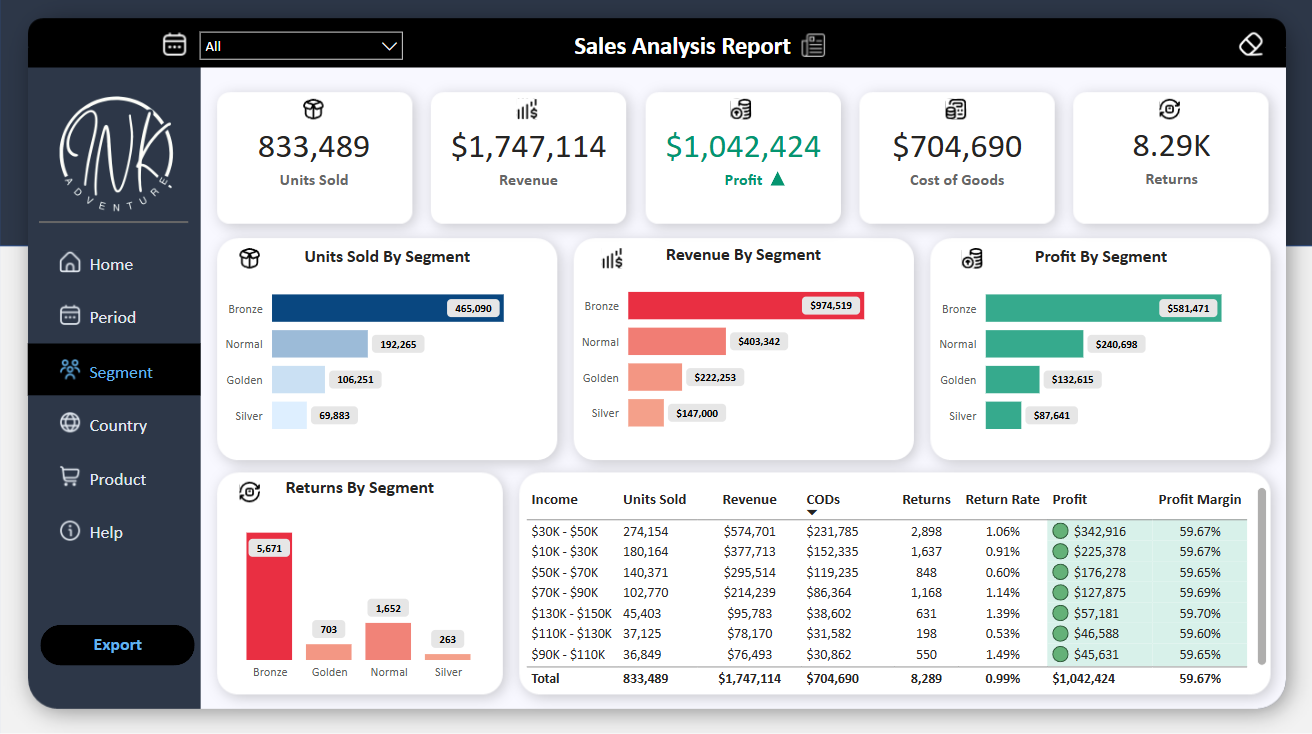

The page's visual inventory and layout, read from the dashboard file:
{"tool":"powerbi","page":{"name":"Main page","canvas":[1280,720],"ordinal":0},"visuals":[{"type":"group","id":"g1","title":"Static grouping","box":[0,24.2,1236.4,474.7],"z":0},{"type":"card","title":"Unit Sold","fields":{"Values":["Measure.Quantity Sold"]},"box":[212.1,115.4,190.4,76.5],"z":0,"group":"g1"},{"type":"shape","box":[1142.4,242.9,88.2,24.6],"z":0,"group":"g4"},{"type":"actionButton","title":"Help","box":[28,495,168,50],"z":0,"group":"g2"},{"type":"card","title":"Revenue","fields":{"Values":["Measure.Total_revenue"]},"box":[420.2,115.9,191.8,76],"z":1000,"group":"g1"},{"type":"card","fields":{"Values":["Measure.YOY-profit_format"]},"box":[1139.5,235,86.8,41.9],"z":1000,"group":"g4"},{"type":"actionButton","title":"product","box":[28,442.8,167.8,49.8],"z":1000,"group":"g2"},{"type":"actionButton","title":"Export","box":[39.8,611.6,150.8,39.8],"z":1000},{"type":"card","title":"Profit","fields":{"Values":["Measure.Total-profit"]},"box":[629.7,115.1,189.2,76.8],"z":2000,"group":"g1"},{"type":"group","id":"g2","title":"Inactive buttons","box":[28,234,168,311],"z":2000},{"type":"actionButton","title":"Country","box":[28,390.7,167.8,49.8],"z":2000,"group":"g2"},{"type":"tableEx","title":"Period Table","fields":{"Values":["Calendar.month_year","Measure.Quantity Sold","Measure.Total_revenue","Measure.Total_cost","Measure.Total_returns","Measure.return_rate","Measure.Total-profit","Measure.Profit_margin"]},"box":[507,473,731,205.3],"z":2000,"group":"g4"},{"type":"card","title":"Total Returns","fields":{"Values":["Measure.Total_returns"]},"box":[1046,114,190.4,77.9],"z":3000,"group":"g1"},{"type":"group","id":"g3","title":"Active buttons","box":[28,234,169.1,311.6],"z":3000},{"type":"areaChart","title":"Profit By Period","fields":{"Category":["Calendar.Year","Calendar.Start of Month","Calendar.Start of Week","Calendar.Quarter"],"Y":["Measure.Total-profit"]},"box":[906.1,242.4,330.4,199.1],"z":3000,"group":"g4"},{"type":"actionButton","title":"Segment","box":[28,338.5,167.8,49.8],"z":3000,"group":"g2"},{"type":"slicer","fields":{"Values":["Calendar.Year"]},"box":[185.1,24.6,218.3,43.4],"z":4000},{"type":"card","title":"Total Cost","fields":{"Values":["Measure.Total_Cost"]},"box":[836.5,115.9,191.8,76],"z":4000,"group":"g1"},{"type":"actionButton","title":"Period","box":[28,286.4,167.8,49.8],"z":4000,"group":"g2"},{"type":"actionButton","title":"Active Period","box":[28,286.4,169.1,51.6],"z":4000,"group":"g3"},{"type":"areaChart","title":"Returns By Period","fields":{"Category":["Calendar.Year","Calendar.Start of Month","Calendar.Start of Week"],"Y":["Measure.Total_returns"]},"box":[212.6,467.1,276.2,208.2],"z":4000,"group":"g4"},{"type":"image","box":[0,24.2,230.4,260.3],"z":5000,"group":"g1"},{"type":"actionButton","box":[154.4,30.3,33.2,31.7],"z":5000},{"type":"actionButton","title":"Home","box":[28,234,168,50],"z":5000,"group":"g2"},{"type":"areaChart","title":"Revenue By Period","fields":{"Category":["Calendar.Year","Calendar.Start of Month","Calendar.Start of Week","Calendar.Quarter"],"Y":["Measure.Total_revenue"]},"box":[559.6,240,329.7,199.6],"z":5000,"group":"g4"},{"type":"shape","box":[38.6,203.9,146,31.4],"z":6000,"group":"g1"},{"type":"areaChart","title":"Units Sold By Period","fields":{"Category":["Calendar.Year","Calendar.Start of Month","Calendar.Start of Week","Calendar.Quarter"],"Y":["Measure.Quantity Sold"]},"box":[212.6,242.9,329.7,199.6],"z":6000,"group":"g4"},{"type":"actionButton","box":[291.4,93.8,32,32],"z":7000,"group":"g1"},{"type":"actionButton","box":[499.9,93.8,32,32],"z":8000,"group":"g1"},{"type":"actionButton","box":[708.4,93.8,32,32],"z":9000,"group":"g1"},{"type":"group","id":"g4","title":"Period View","box":[212.6,235,1025.4,443.3],"z":9000},{"type":"textbox","title":"report name","box":[554,27.4,246.7,40.4],"z":10000,"group":"g1"},{"type":"actionButton","box":[776.2,24.5,49.1,47.6],"z":11000},{"type":"actionButton","box":[916.9,93.8,32,32],"z":11000,"group":"g1"},{"type":"actionButton","box":[1201.6,22.9,48.3,47.1],"z":12000},{"type":"actionButton","box":[1125.4,93.8,32,32],"z":12000,"group":"g1"},{"type":"shape","box":[750.5,170.7,14.5,14.5],"z":13000,"group":"g1"},{"type":"actionButton","box":[229.9,240.1,33.3,31.8],"z":14000,"group":"g1"},{"type":"actionButton","box":[582,240.1,31.8,31.8],"z":15000,"group":"g1"},{"type":"actionButton","box":[932.7,240.1,31.8,31.8],"z":16000,"group":"g1"},{"type":"actionButton","box":[229.9,467.1,31.8,31.8],"z":17000,"group":"g1"}]}

Visuals, with their boxes in screenshot pixels (x1, y1, x2, y2), scaled from the page's 1280x720 canvas onto the 1312x734 screenshot:
"Static grouping" group: [0,25,1267,509]
"Unit Sold" card: [217,118,413,196]
shape: [1171,248,1261,273]
"Help" actionButton: [29,505,201,556]
"Revenue" card: [431,118,627,196]
card - Measure.YOY-profit_format: [1168,240,1257,282]
"product" actionButton: [29,451,201,502]
"Export" actionButton: [41,623,195,664]
"Profit" card: [645,117,839,196]
"Inactive buttons" group: [29,239,201,556]
"Country" actionButton: [29,398,201,449]
"Period Table" tableEx: [520,482,1269,691]
"Total Returns" card: [1072,116,1267,196]
"Active buttons" group: [29,239,202,556]
"Profit By Period" areaChart: [929,247,1267,450]
"Segment" actionButton: [29,345,201,396]
slicer - Calendar.Year: [190,25,413,69]
"Total Cost" card: [857,118,1054,196]
"Period" actionButton: [29,292,201,343]
"Active Period" actionButton: [29,292,202,345]
"Returns By Period" areaChart: [218,476,501,688]
image: [0,25,236,290]
actionButton: [158,31,192,63]
"Home" actionButton: [29,239,201,290]
"Revenue By Period" areaChart: [574,245,912,448]
shape: [40,208,189,240]
"Units Sold By Period" areaChart: [218,248,556,451]
actionButton: [299,96,331,128]
actionButton: [512,96,545,128]
actionButton: [726,96,759,128]
"Period View" group: [218,240,1269,691]
"report name" textbox: [568,28,821,69]
actionButton: [796,25,846,74]
actionButton: [940,96,973,128]
actionButton: [1232,23,1281,71]
actionButton: [1154,96,1186,128]
shape: [769,174,784,189]
actionButton: [236,245,270,277]
actionButton: [597,245,629,277]
actionButton: [956,245,989,277]
actionButton: [236,476,268,509]
